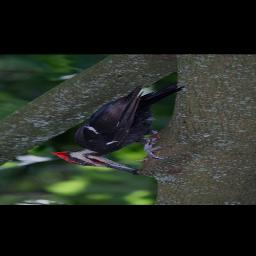Woodpecker: (50, 82, 185, 174)
